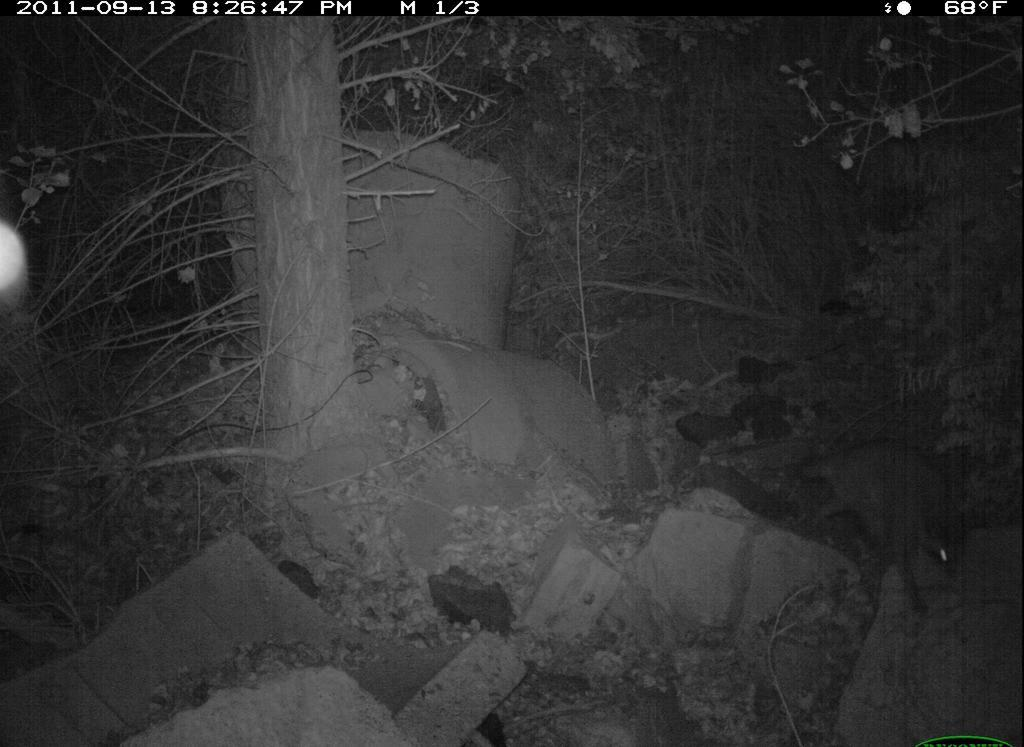raccoon: (794, 429, 977, 624)
